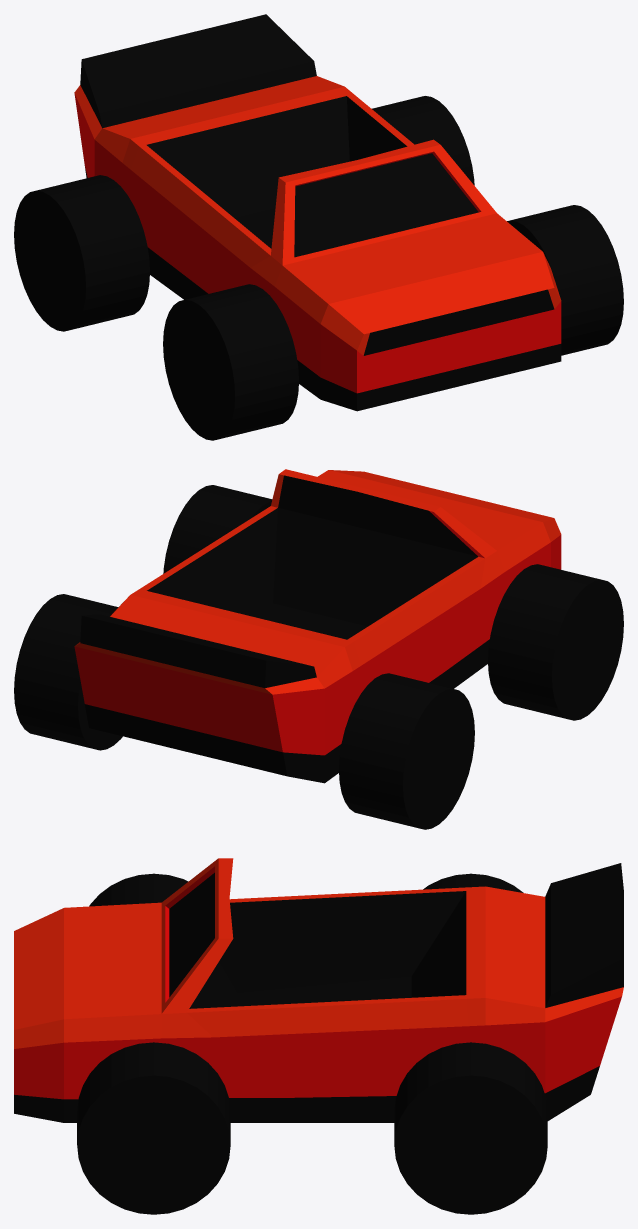
The model's file is Car.fbx.
3 renders of one model, top to bottom at view 1: azimuth 30°, elevation 25°; view 2: azimuth 150°, elevation 25°; view 3: azimuth 270°, elevation 25°, orthographic. The views are drawn at different scales.
Visible parts, largest first — view 1: Car Body, Wheel_FR, Wheel_BR, Wheel_FL, Wheel_BL; view 2: Car Body, Wheel_BR, Wheel_FR, Wheel_BL, Wheel_FL; view 3: Car Body, Wheel_BL, Wheel_FL, Wheel_FR, Wheel_BR.
Part boxes in pixels (x1,y1,x2,y2): Car Body: (74, 14, 561, 411); Wheel_FR: (163, 284, 298, 440); Wheel_BR: (14, 175, 149, 331); Wheel_FL: (507, 205, 623, 355); Wheel_BL: (372, 96, 474, 185); Car Body: (74, 469, 561, 783); Wheel_BR: (339, 673, 474, 829); Wheel_FR: (488, 564, 623, 720); Wheel_BL: (14, 594, 122, 750); Wheel_FL: (163, 485, 272, 573); Car Body: (14, 858, 623, 1122); Wheel_BL: (394, 1042, 547, 1214); Wheel_FL: (77, 1042, 230, 1214); Wheel_FR: (89, 873, 188, 906); Wheel_BR: (423, 873, 523, 892).
Bounding box in the file's own units: 622 × 309 × 795.
